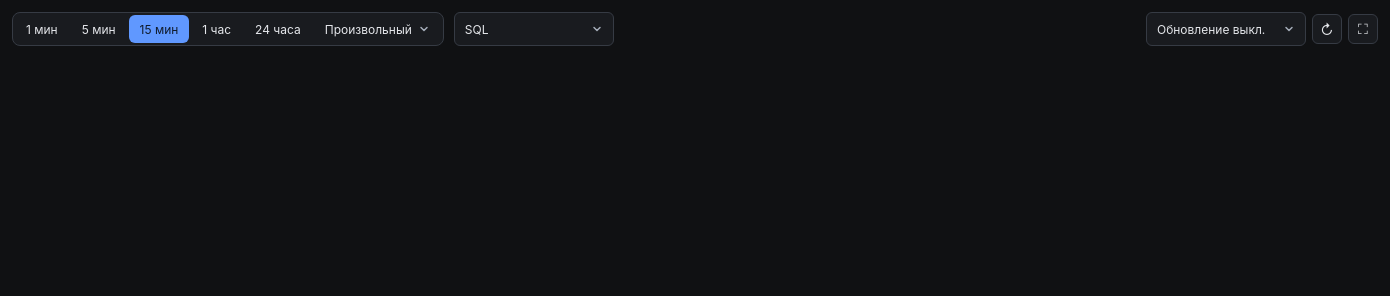
Test: applies a custom period containing seconds through the real form
Click the button "Произвольный".
click(377, 29)  # box [314,15,441,43]
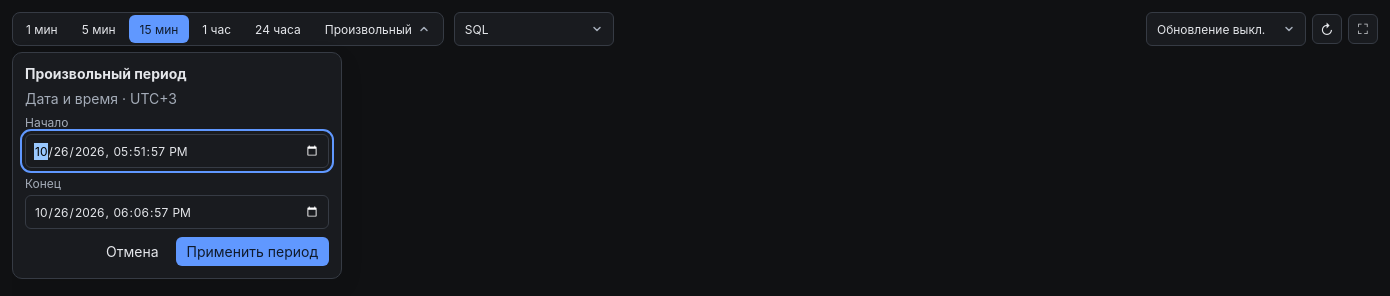
Replace the text in the field labelled "Начало" with "2026-10-25T12:00:30" at (177,151), box [25,134,329,168]
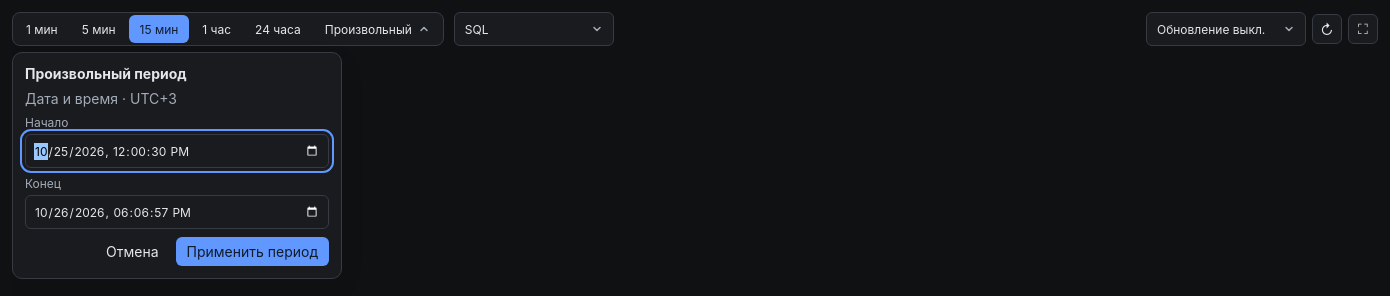
Replace the text in the field labelled "Конец" with "2026-10-25T12:05:30" at (177,212), box [25,195,329,229]
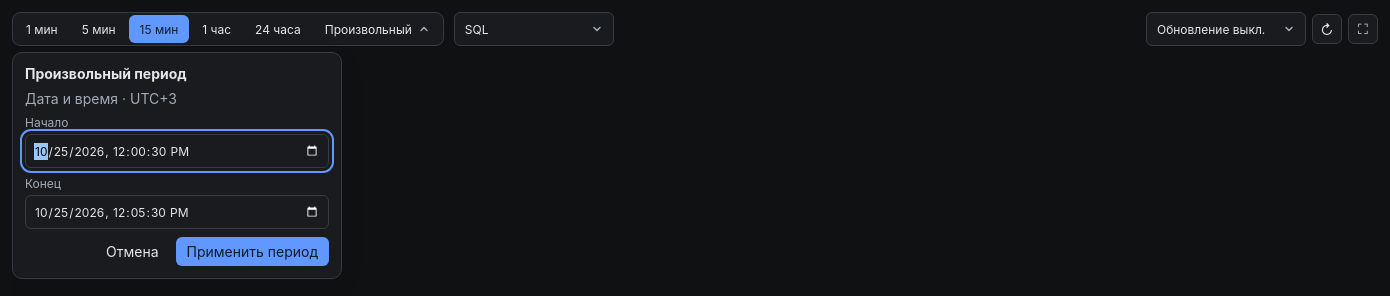
Click the button "Применить период".
click(252, 252)  # box [176,237,329,266]
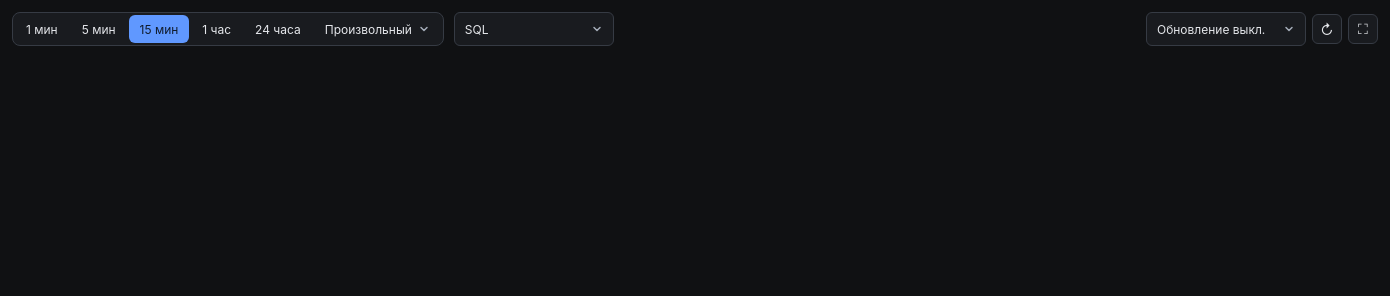
Expected: the form is gone
